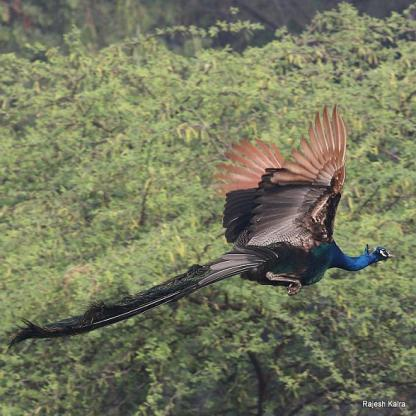Burung: (7, 103, 393, 348)
